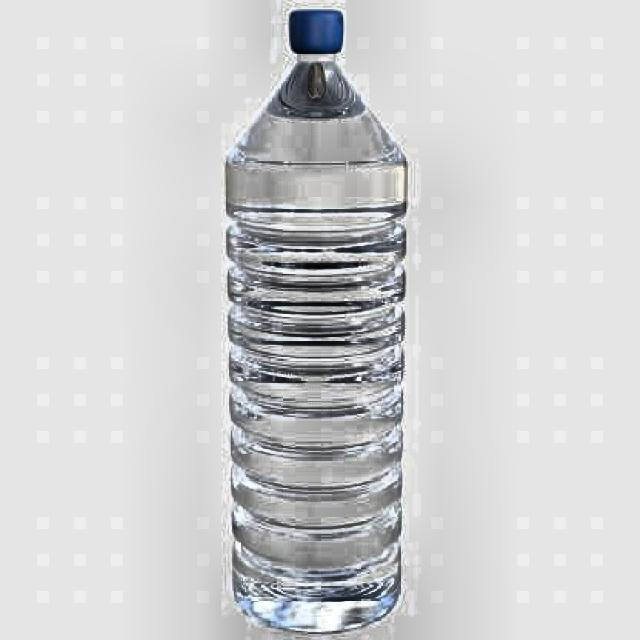plastic bottle: (228, 9, 408, 633)
